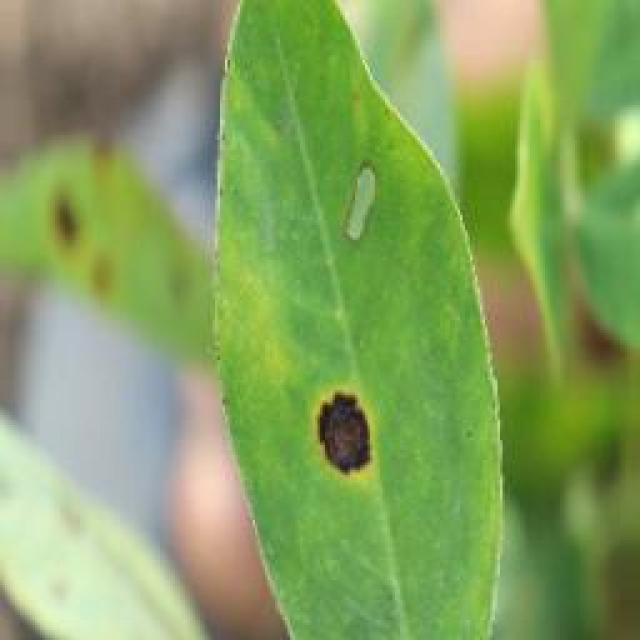Yellowish: (18, 146, 133, 316), (281, 362, 405, 516)
